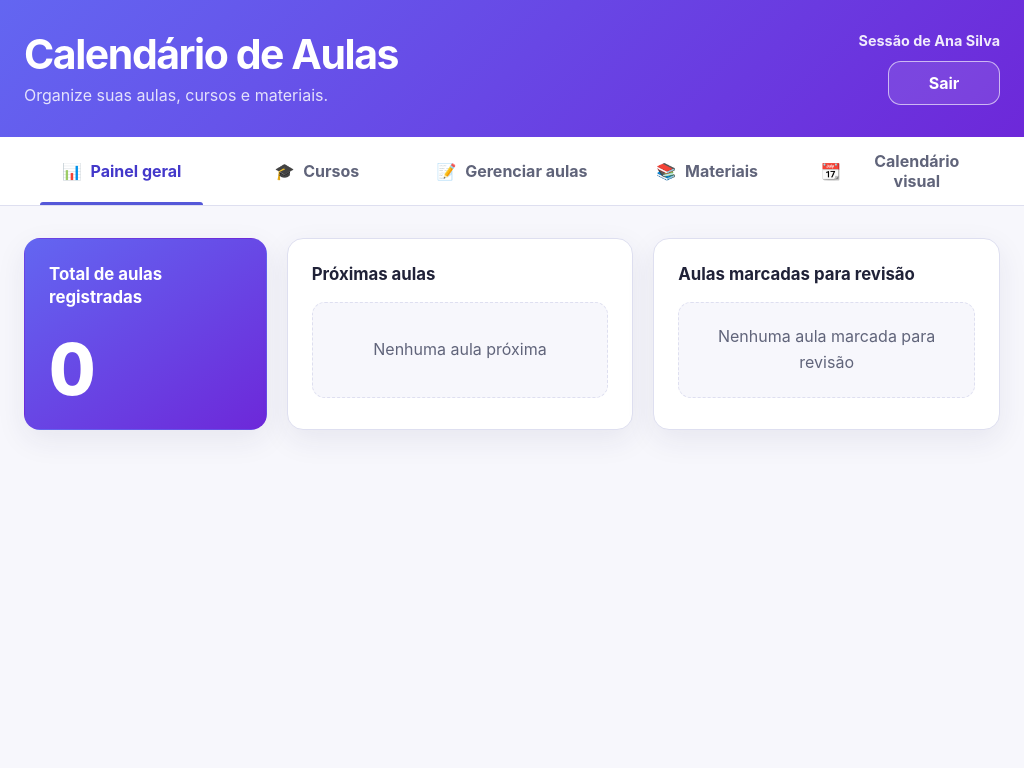
Test: catálogo de cursos dentro da área autenticada › consulta o catálogo ao abrir Cursos e novamente ao retornar à seção
Expected: the heading "Próximas aulas" is shown, [312,264,436,284]
Click the button "🎓 Cursos".
click(317, 171)  # box [219,137,414,205]
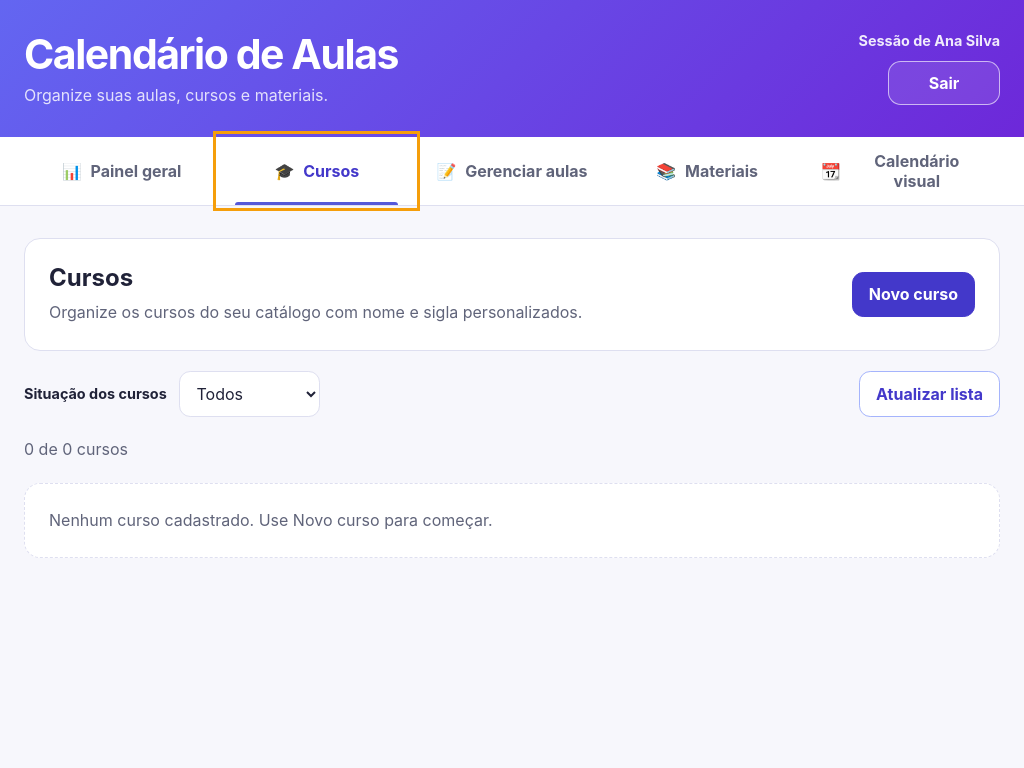
Expected: the text "0 de 0 cursos" is shown, [24,439,128,459]
Click the button "📊 Painel geral".
click(122, 171)  # box [24,137,219,205]
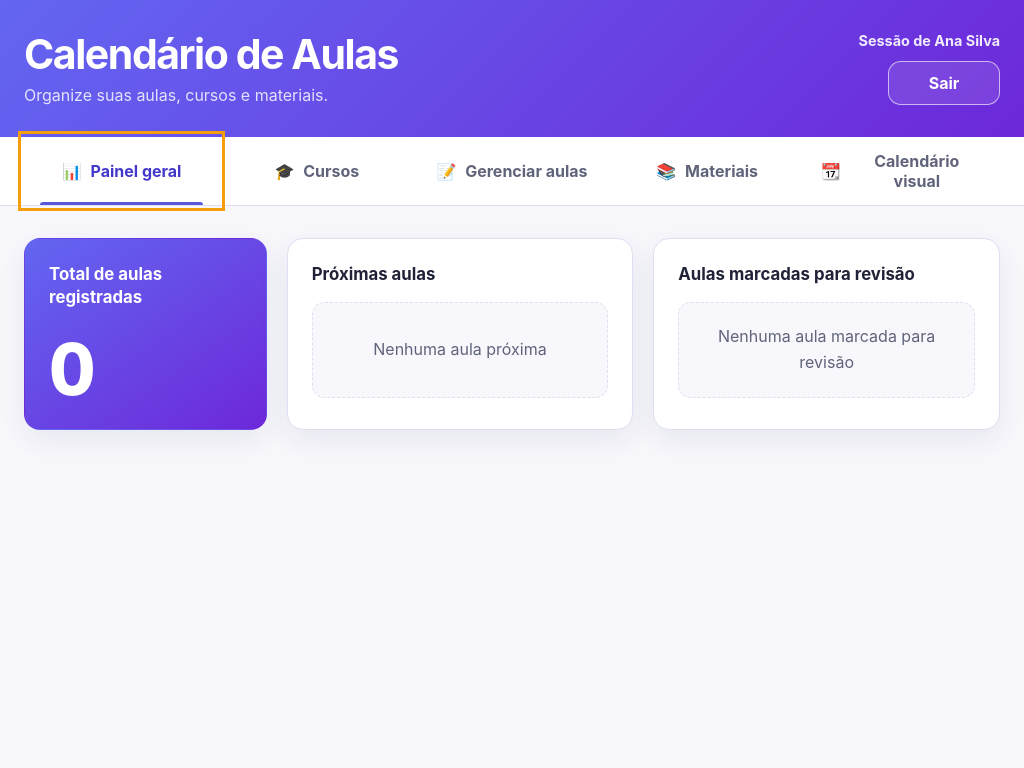
Click the button "🎓 Cursos".
click(317, 171)  # box [219,137,414,205]
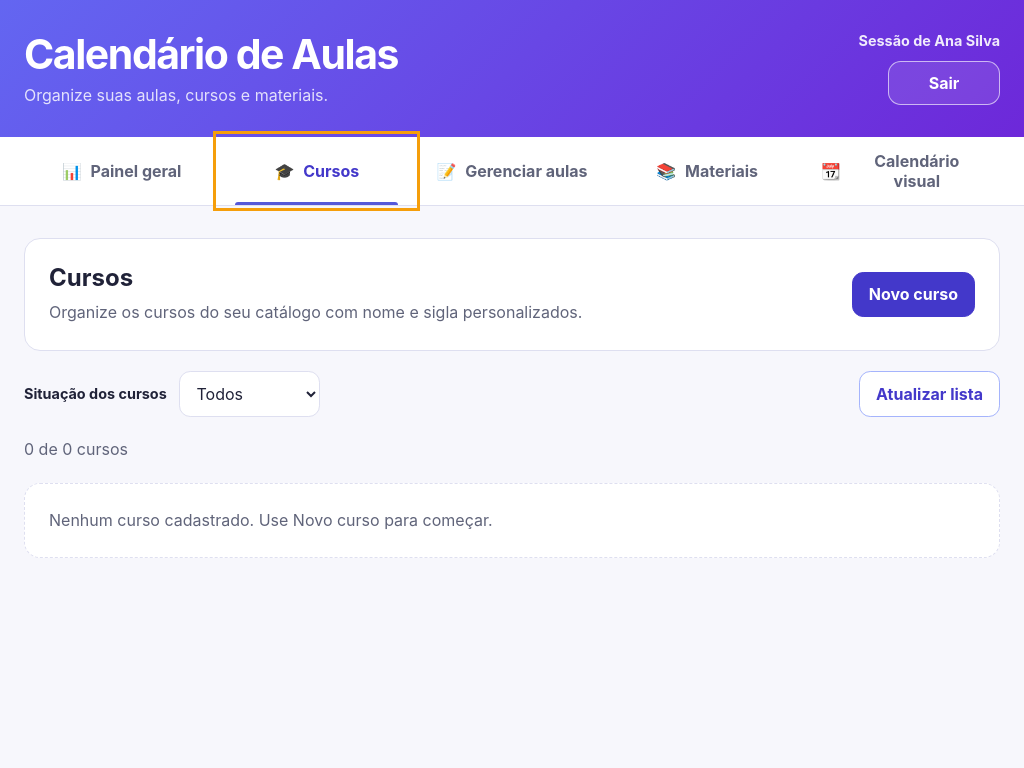
Expected: the text "0 de 0 cursos" is shown, [24,439,128,459]
